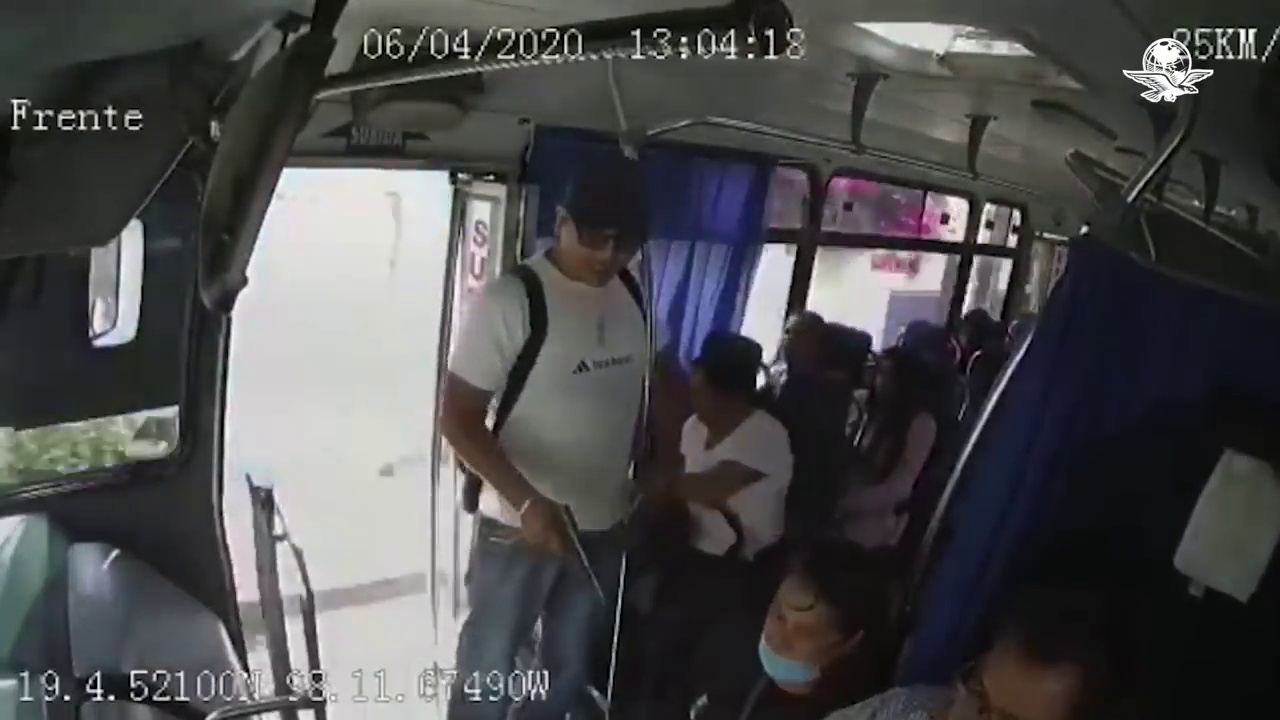pistol: (541, 501, 613, 611)
